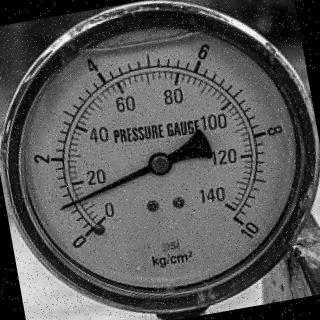gauge: (0, 0, 320, 316), (64, 200, 124, 256), (212, 195, 266, 247), (145, 150, 176, 178), (54, 199, 75, 215)
